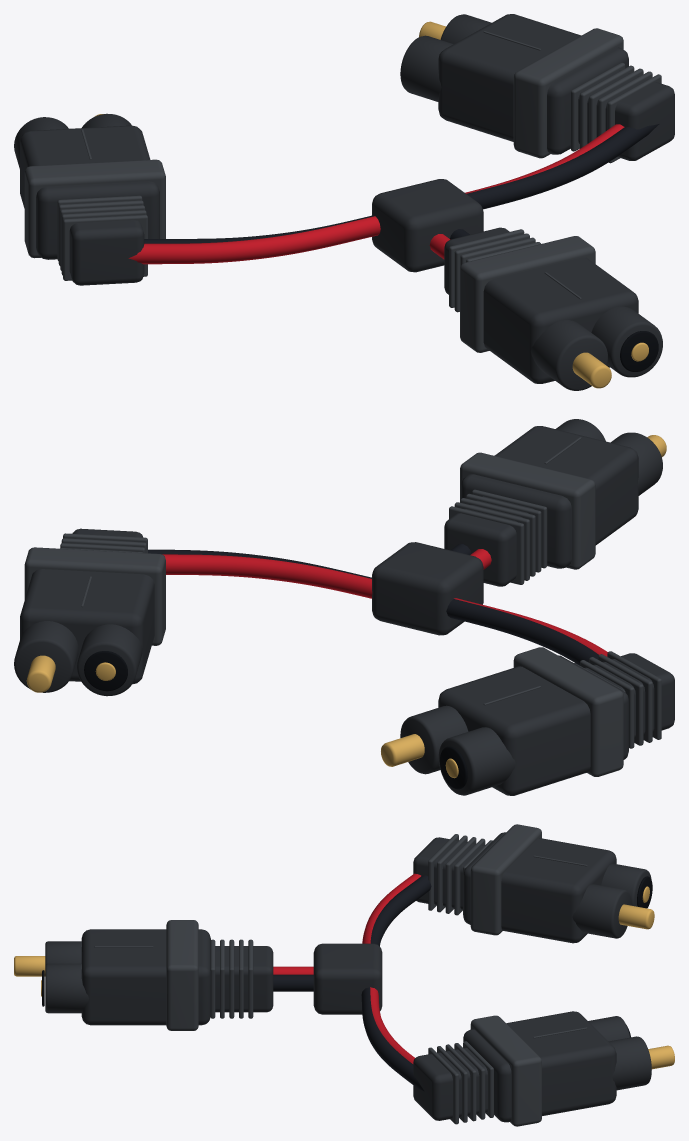
File: y-adapter.glb
3 renders of one model, top to bottom at view 1: azimuth 30°, elevation 25°; view 2: azimuth 150°, elevation 25°; view 3: azimuth 270°, elevation 25°, orthographic. The views are drawn at different scales.
Parts seen in each view (by area): view 1: Output right housing, Input housing, Output left housing, Splitter joint, Output right shoulder, Left branch red, Output left rear, Input shoulder, Output left shoulder, Output right rear, Right branch black, Input sleeve.001 (+21 smaller); view 2: Output left housing, Input housing, Output right housing, Splitter joint, Output left shoulder, Input shoulder, Right branch red, Output right shoulder, Input rear, Left branch black, Output left sleeve, Output right sleeve.001 (+21 smaller); view 3: Input housing, Output right housing, Output left housing, Splitter joint, Output left shoulder, Output right shoulder, Input shoulder, Output right rear, Input rear, Output left sleeve.001, Input sleeve, Output right sleeve.001 (+23 smaller).
Boxes of the visible parts, box(x1,y1,x2,y2) form: Output right housing: box(438, 14, 628, 154); Input housing: box(483, 257, 638, 383); Output left housing: box(20, 125, 159, 259); Splitter joint: box(372, 179, 483, 272); Output right shoulder: box(513, 28, 623, 158); Left branch red: box(128, 216, 380, 264); Output left rear: box(69, 201, 144, 285); Input shoulder: box(460, 236, 595, 352); Output left shoulder: box(24, 159, 165, 258); Output right rear: box(578, 70, 674, 160); Right branch black: box(466, 124, 659, 209); Input sleeve.001: box(531, 320, 607, 390); Output left housing: box(438, 655, 628, 795); Input housing: box(461, 426, 638, 568); Output right housing: box(20, 569, 154, 684); Splitter joint: box(372, 542, 483, 635); Output left shoulder: box(513, 647, 623, 776); Input shoulder: box(460, 452, 595, 569); Right branch red: box(162, 554, 372, 598); Output right shoulder: box(24, 547, 165, 645); Input rear: box(444, 496, 534, 586); Left branch black: box(446, 599, 598, 665); Output left sleeve: box(438, 727, 515, 795); Output right sleeve.001: box(14, 621, 78, 692); Input housing: box(81, 929, 210, 1025); Output right housing: box(463, 1011, 616, 1122); Output left housing: box(463, 832, 616, 943); Splitter joint: box(313, 943, 382, 1014); Output left shoulder: box(470, 824, 541, 935); Output right shoulder: box(470, 1015, 541, 1126); Input shoulder: box(166, 920, 198, 1030); Output right rear: box(413, 1047, 487, 1120); Input rear: box(215, 946, 273, 1012); Output left sleeve.001: box(572, 884, 631, 938); Input sleeve: box(45, 963, 88, 1013); Output right sleeve.001: box(608, 1036, 651, 1090).
Bounding box in the file's own units: 2.84 × 0.36 × 3.27.
